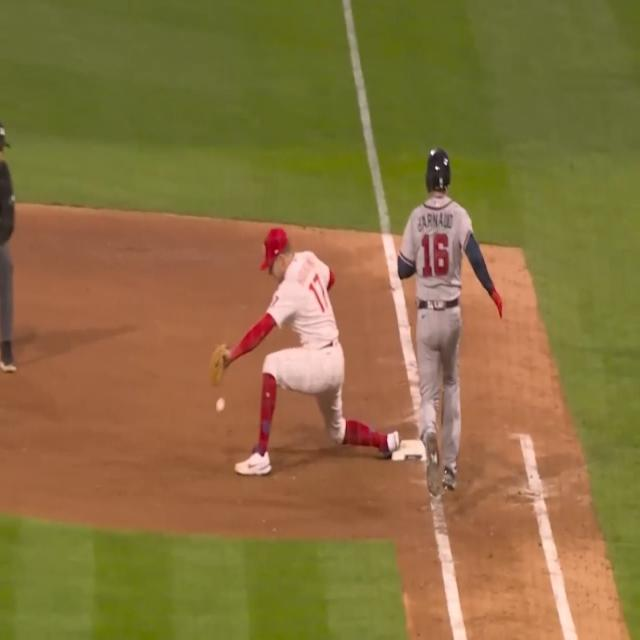baseball: (215, 396, 227, 414)
